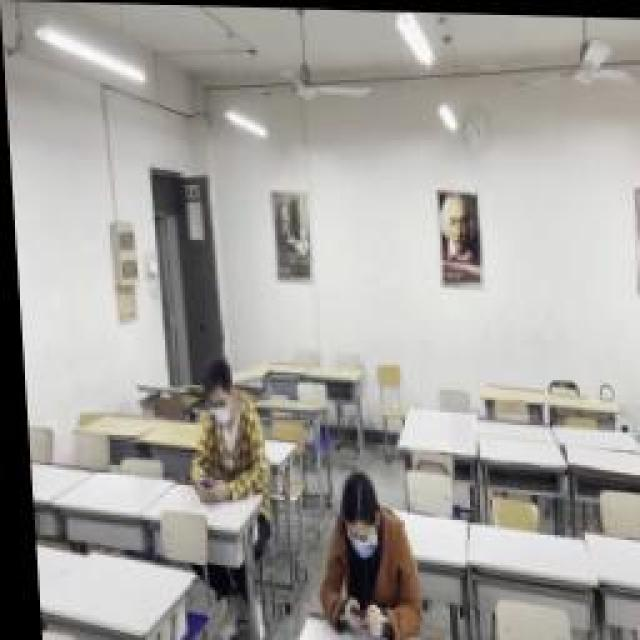phone: (310, 475, 408, 633), (178, 363, 260, 495)
